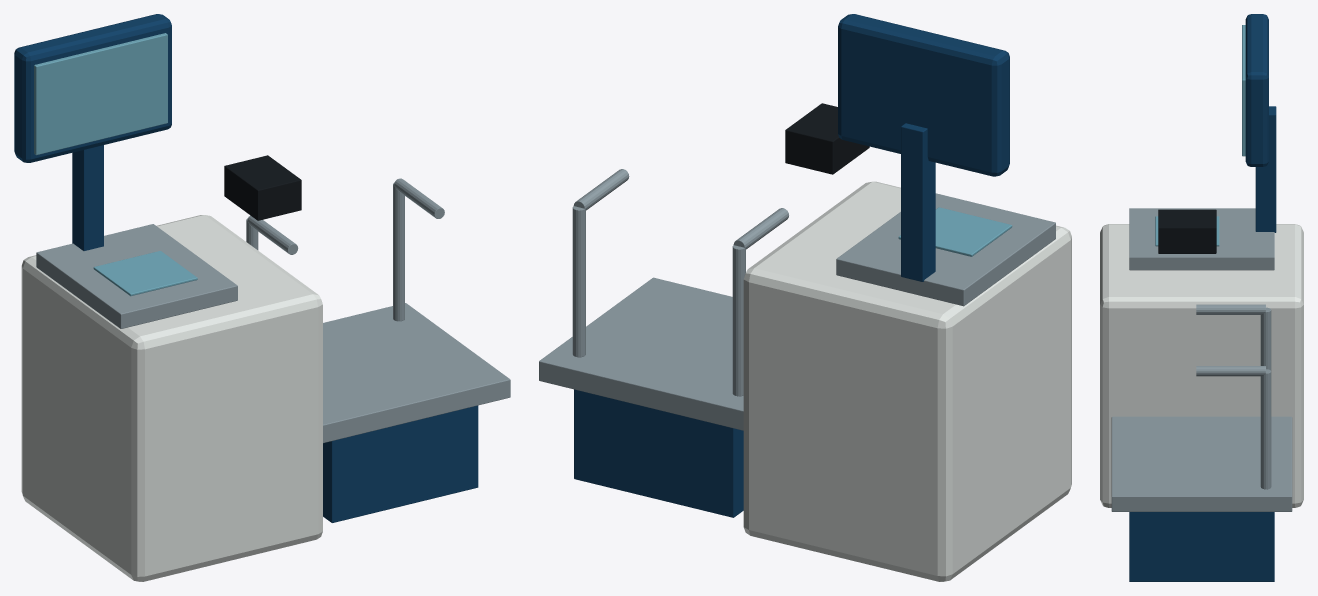
3 views of the same model, side by side, from view 1: azimuth 30°, elevation 25°; view 2: azimuth 150°, elevation 25°; view 3: azimuth 270°, elevation 25° (orthographic). The views are drawn at different scales.
Parts seen in each view (by area): view 1: BASE, WEIGH_Platform, WEIGH_Base, SCREEN_Glass, SCANNER_Bed, SCREEN_Frame, PAYMENT_Terminal, SCREEN_Pedestal, SCANNER_Window, BAG_Arm, BAG_Hook, BAG_Hook.001; view 2: BASE, SCREEN_Frame, WEIGH_Platform, WEIGH_Base, SCANNER_Bed, SCREEN_Pedestal, PAYMENT_Terminal, SCANNER_Window, BAG_Arm, BAG_Arm.001, BAG_Hook, BAG_Hook.001; view 3: BASE, WEIGH_Platform, WEIGH_Base, SCANNER_Bed, SCREEN_Frame, PAYMENT_Terminal, SCREEN_Pedestal, BAG_Arm, BAG_Hook.001, BAG_Hook, BAG_Arm.001, SCREEN_Glass.
Part boxes in pixels (x1=…): BASE: x1=21, y1=215, x2=322, y2=581; WEIGH_Platform: x1=323, y1=303, x2=510, y2=443; WEIGH_Base: x1=323, y1=405, x2=478, y2=522; SCREEN_Glass: x1=34, y1=33, x2=167, y2=155; SCANNER_Bed: x1=36, y1=224, x2=237, y2=328; SCREEN_Frame: x1=14, y1=14, x2=171, y2=162; PAYMENT_Terminal: x1=224, y1=155, x2=301, y2=220; SCREEN_Pedestal: x1=72, y1=145, x2=103, y2=250; SCANNER_Window: x1=93, y1=251, x2=197, y2=296; BAG_Arm: x1=393, y1=182, x2=404, y2=321; BAG_Hook: x1=394, y1=178, x2=444, y2=218; BAG_Hook.001: x1=247, y1=215, x2=298, y2=254; BASE: x1=743, y1=181, x2=1071, y2=581; SCREEN_Frame: x1=838, y1=14, x2=1009, y2=176; WEIGH_Platform: x1=539, y1=277, x2=743, y2=430; WEIGH_Base: x1=574, y1=389, x2=743, y2=517; SCANNER_Bed: x1=836, y1=193, x2=1055, y2=306; SCREEN_Pedestal: x1=901, y1=123, x2=935, y2=281; PAYMENT_Terminal: x1=785, y1=103, x2=869, y2=174; SCANNER_Window: x1=898, y1=207, x2=1012, y2=256; BAG_Arm: x1=572, y1=206, x2=585, y2=357; BAG_Arm.001: x1=732, y1=245, x2=745, y2=396; BAG_Hook: x1=573, y1=169, x2=629, y2=210; BAG_Hook.001: x1=733, y1=208, x2=788, y2=249; BASE: x1=1100, y1=224, x2=1303, y2=507; WEIGH_Platform: x1=1111, y1=416, x2=1292, y2=511; WEIGH_Base: x1=1129, y1=512, x2=1274, y2=581; SCANNER_Bed: x1=1129, y1=208, x2=1274, y2=270; SCREEN_Frame: x1=1245, y1=14, x2=1268, y2=166; PAYMENT_Terminal: x1=1158, y1=209, x2=1216, y2=253; SCREEN_Pedestal: x1=1255, y1=106, x2=1276, y2=232; BAG_Arm: x1=1260, y1=369, x2=1271, y2=489; BAG_Hook.001: x1=1196, y1=304, x2=1265, y2=314; BAG_Hook: x1=1196, y1=366, x2=1265, y2=376; BAG_Arm.001: x1=1260, y1=307, x2=1271, y2=370; SCREEN_Glass: x1=1242, y1=25, x2=1245, y2=156.
Size of the model in its own units: 1.39 by 1.55 by 0.7.
